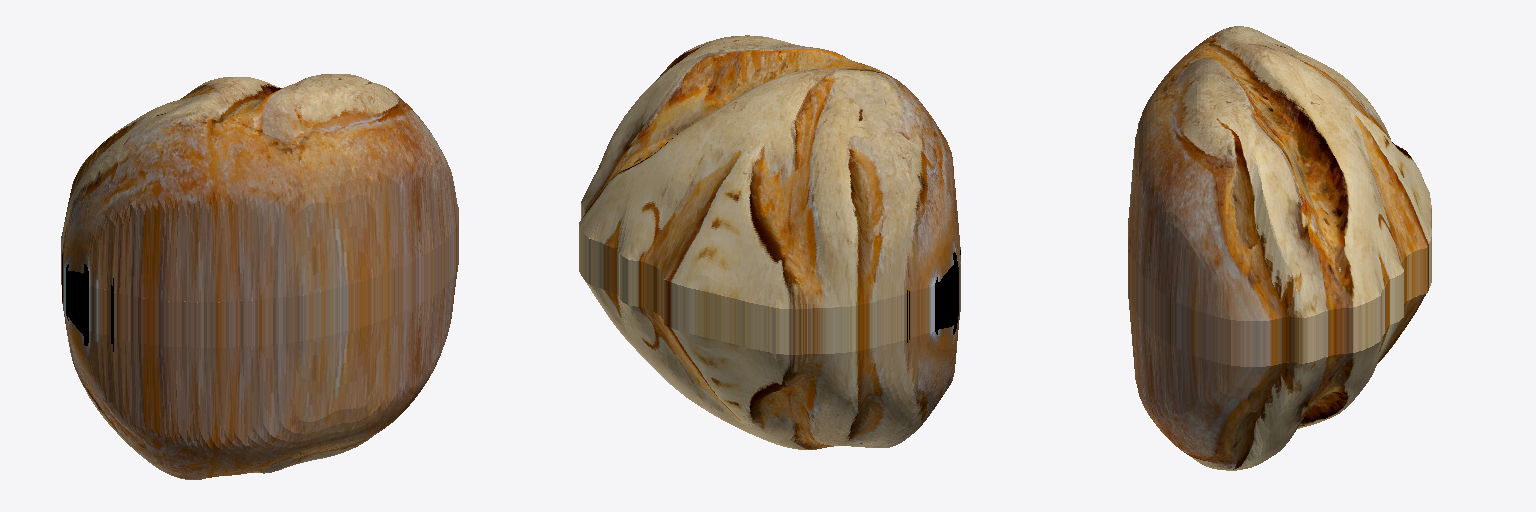
3 renders of one model, left to right at view 1: azimuth 30°, elevation 25°; view 2: azimuth 150°, elevation 25°; view 3: azimuth 270°, elevation 25°, orthographic.
Visible parts, largest first — view 1: Grid; view 2: Grid; view 3: Grid.
Boxes of the visible parts, <box> form: Grid: <box>61,74,458,479</box>; Grid: <box>579,35,960,449</box>; Grid: <box>1128,26,1431,470</box>.
Bounding box in the file's own units: 1.98 × 1.97 × 1.45.
Materials: 1 (1 with a texture image).